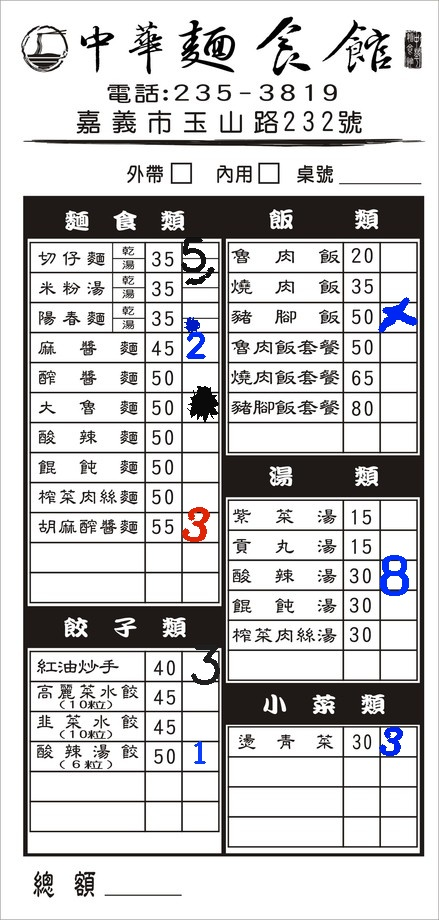marked_circle: (181, 392, 217, 421), (183, 317, 217, 330)
marked_number_1: (182, 743, 218, 772)
marked_number_2: (182, 332, 218, 361)
marked_number_3: (182, 651, 218, 680), (181, 512, 217, 541), (380, 726, 416, 755)
marked_number_5: (183, 244, 217, 257)
marked_number_8: (380, 561, 416, 590)
marked_tick: (183, 273, 217, 286)
marked_x: (380, 302, 416, 331)
